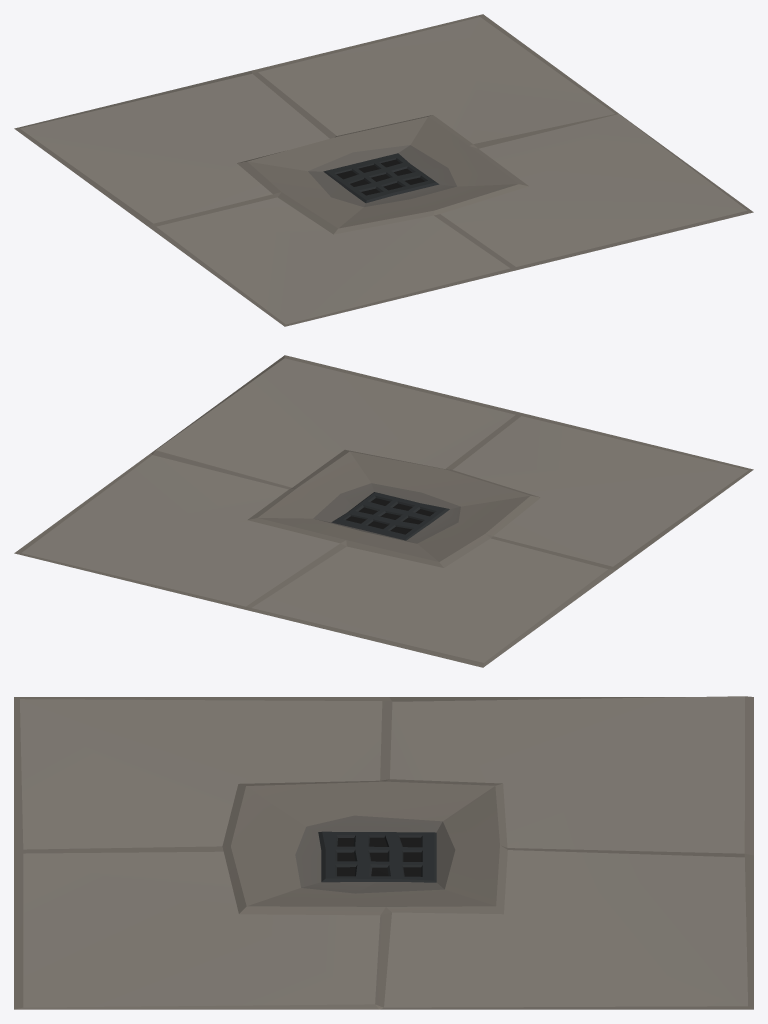
Rendered from SM_Env_Sidewalk_Grate_02.obj.
3 renders of one model, top to bottom at view 1: azimuth 30°, elevation 25°; view 2: azimuth 150°, elevation 25°; view 3: azimuth 270°, elevation 25°, orthographic. The views are drawn at different scales.
Parts seen in each view (by area): view 1: SM_Env_Sidewalk_Grate_02_0; view 2: SM_Env_Sidewalk_Grate_02_0; view 3: SM_Env_Sidewalk_Grate_02_0.
Boxes of the visible parts, x1=… form: SM_Env_Sidewalk_Grate_02_0: x1=14, y1=14, x2=753, y2=326; SM_Env_Sidewalk_Grate_02_0: x1=14, y1=355, x2=753, y2=667; SM_Env_Sidewalk_Grate_02_0: x1=14, y1=696, x2=753, y2=1009.
Bounding box in the file's own units: 5 × 0.1063 × 5.
Materials: 1 (1 with a texture image).
